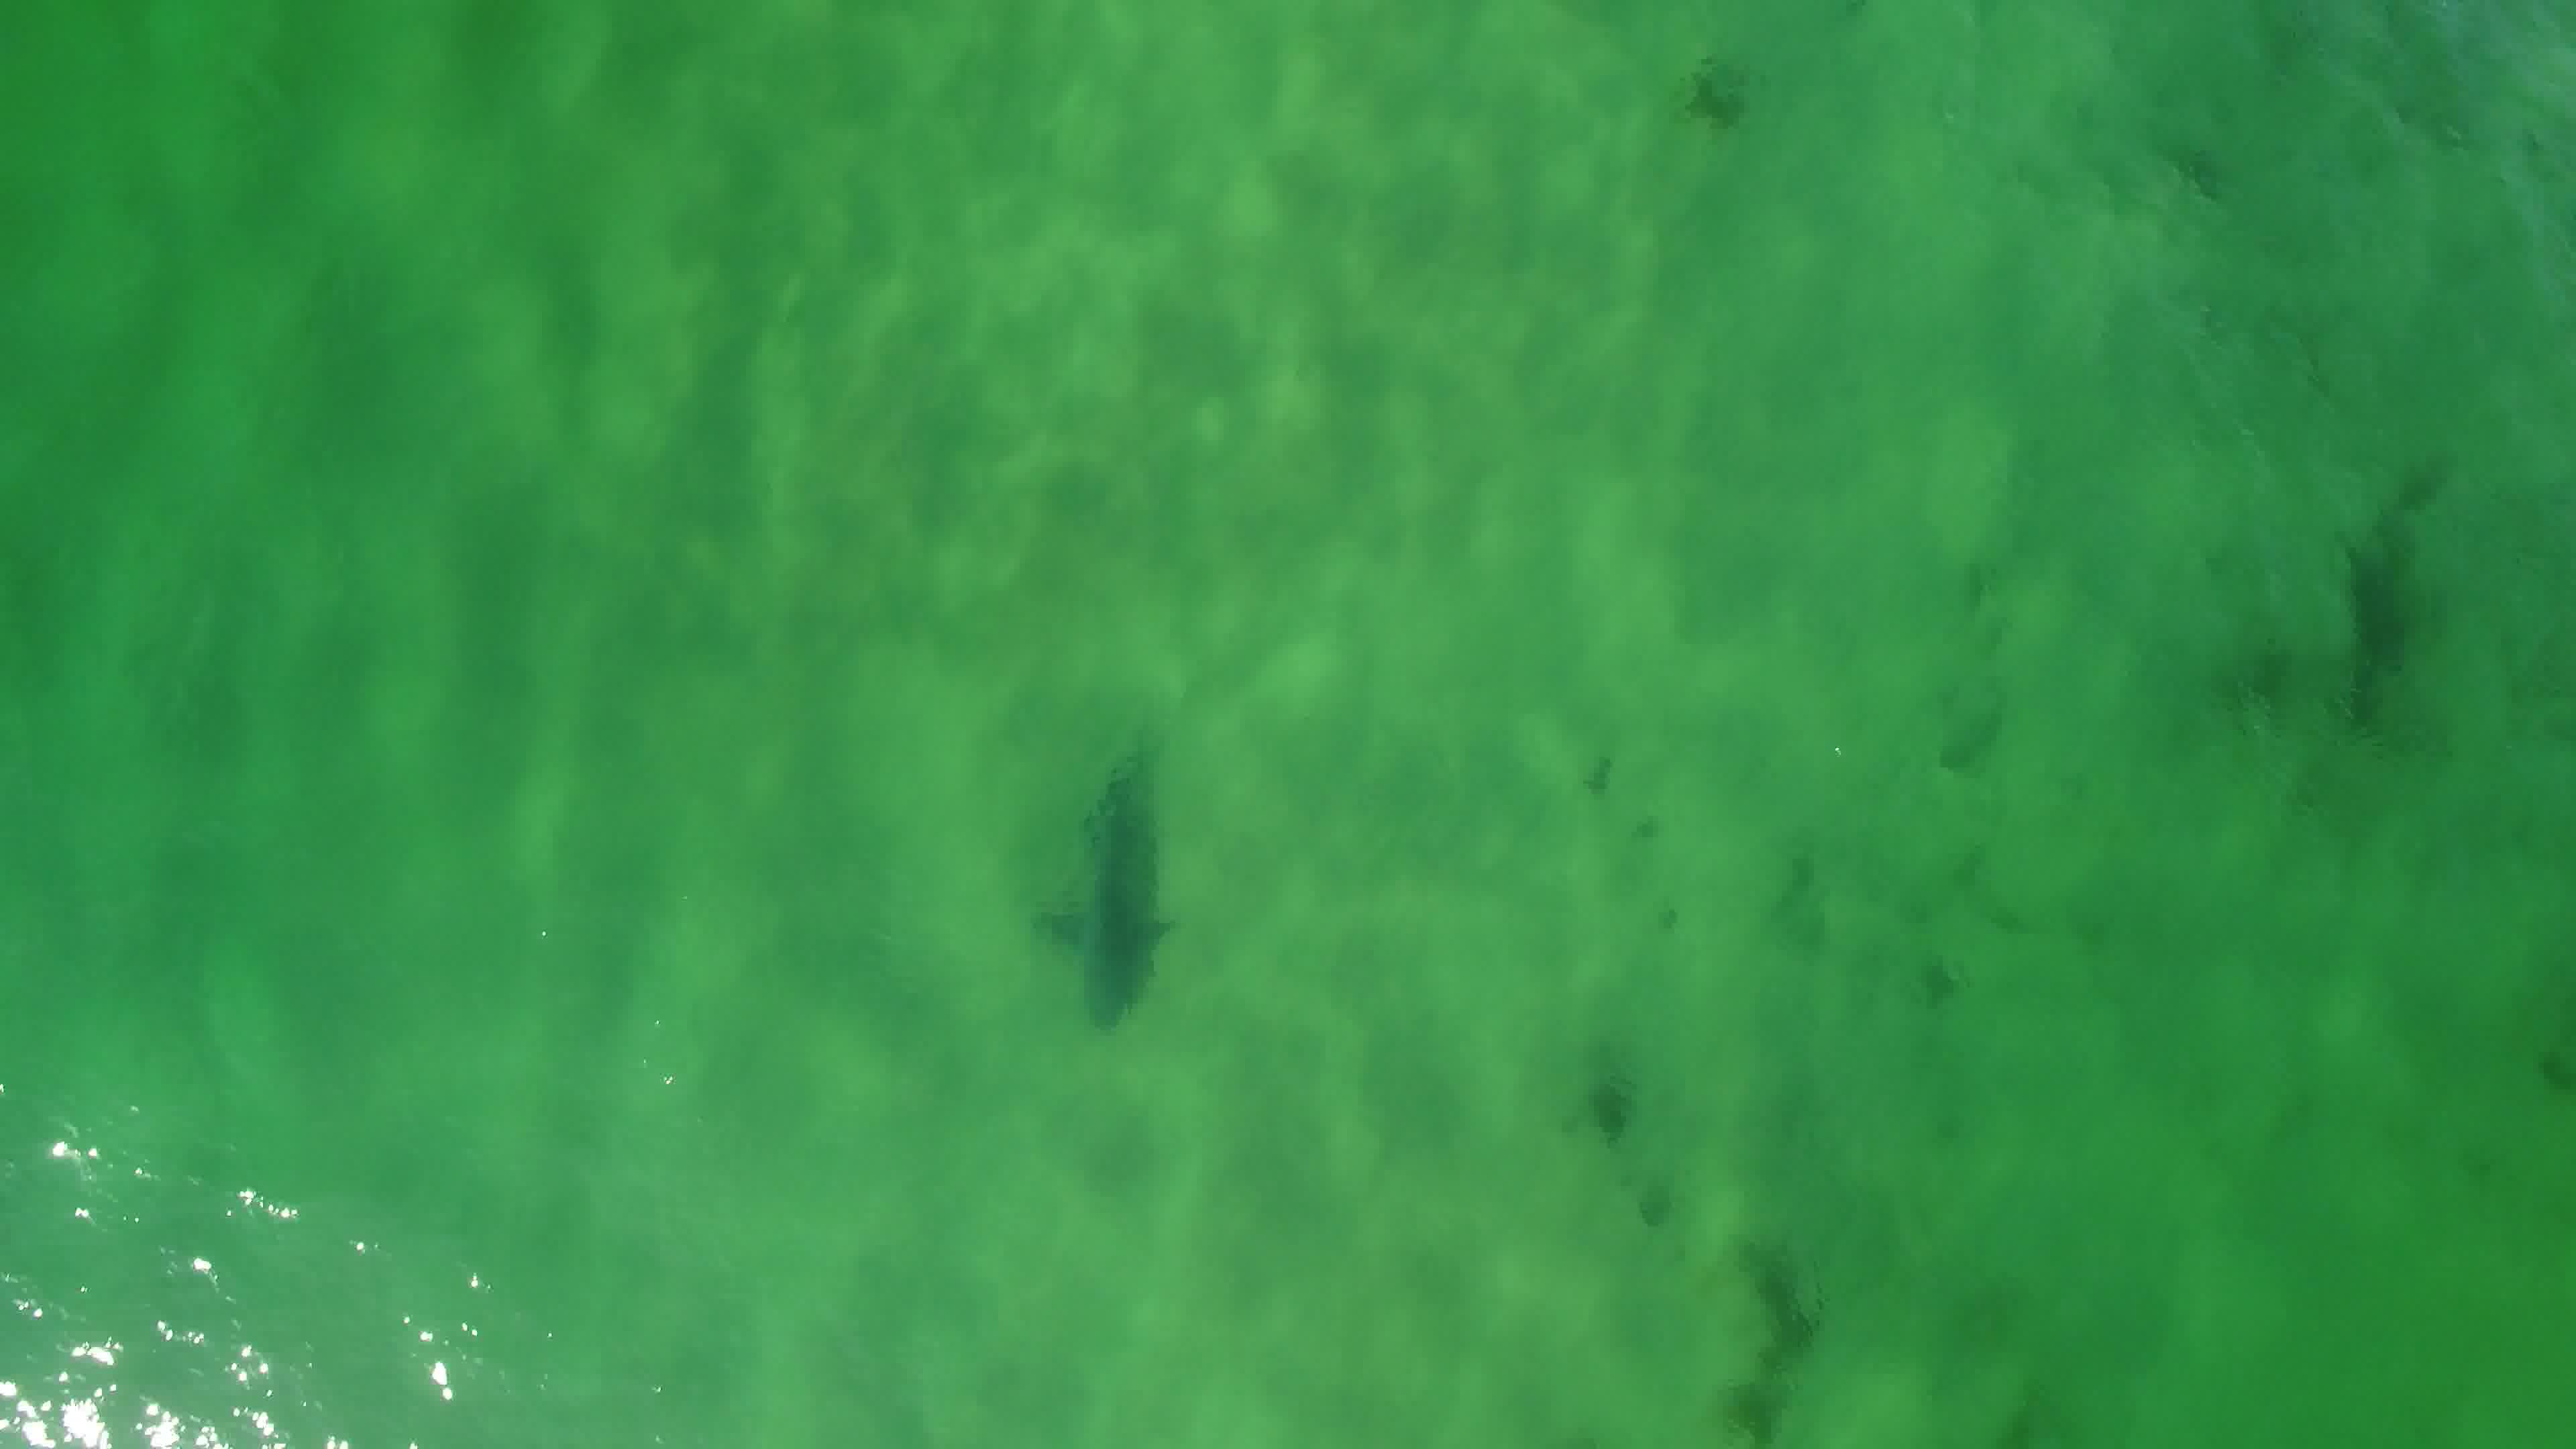shark: (1024, 731, 1182, 1042)
